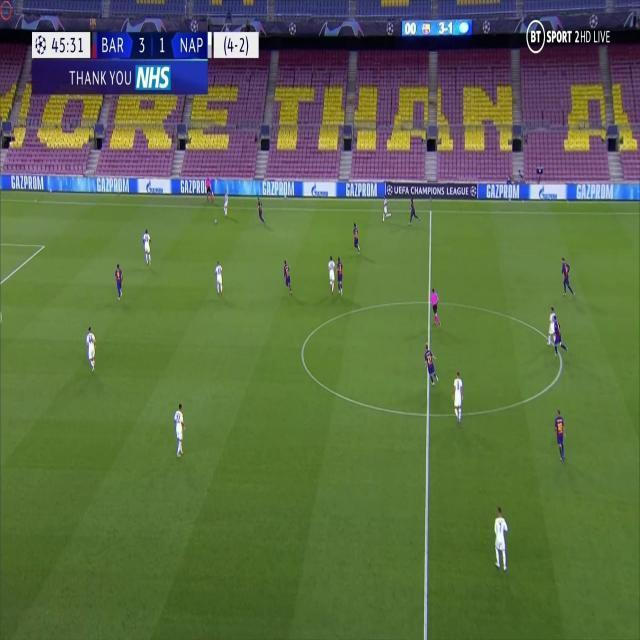ball: (213, 217, 218, 224)
player: (493, 503, 510, 573), (172, 400, 187, 458), (553, 408, 568, 462), (452, 367, 465, 424), (423, 345, 440, 386), (553, 310, 568, 355), (559, 257, 575, 299), (84, 322, 97, 373), (546, 308, 557, 349), (142, 226, 153, 265), (113, 261, 124, 300), (326, 253, 336, 294), (214, 257, 224, 298), (282, 258, 293, 295), (351, 220, 361, 256), (408, 194, 420, 224), (337, 254, 345, 297), (381, 191, 391, 221), (256, 196, 266, 225), (222, 184, 230, 216)
referee: (430, 285, 442, 328), (205, 174, 215, 206)
